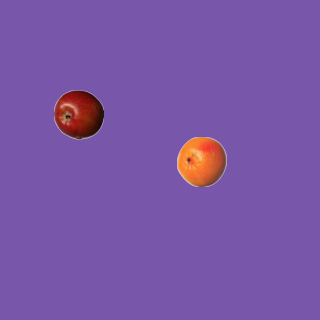Apple Braeburn: (53, 89, 103, 139)
Grapefruit Pink: (176, 136, 226, 186)
